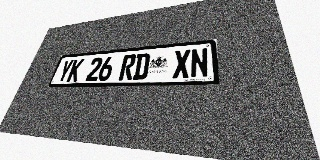2: (85, 57, 104, 81)
6: (97, 56, 115, 81)
D: (132, 53, 151, 80)
K: (66, 59, 84, 82)
N: (190, 48, 209, 78)
R: (118, 54, 137, 80)
X: (172, 49, 190, 79)
Y: (56, 60, 74, 82)
